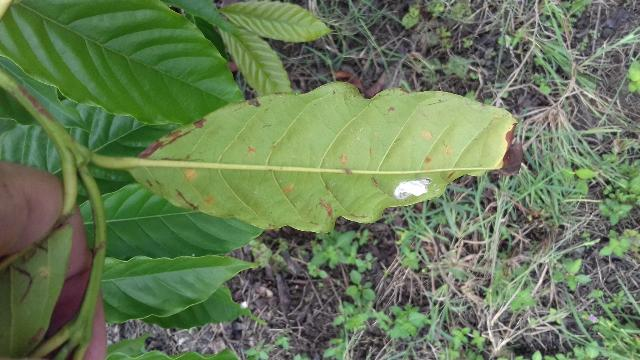rust_level_1: (118, 76, 527, 233)
